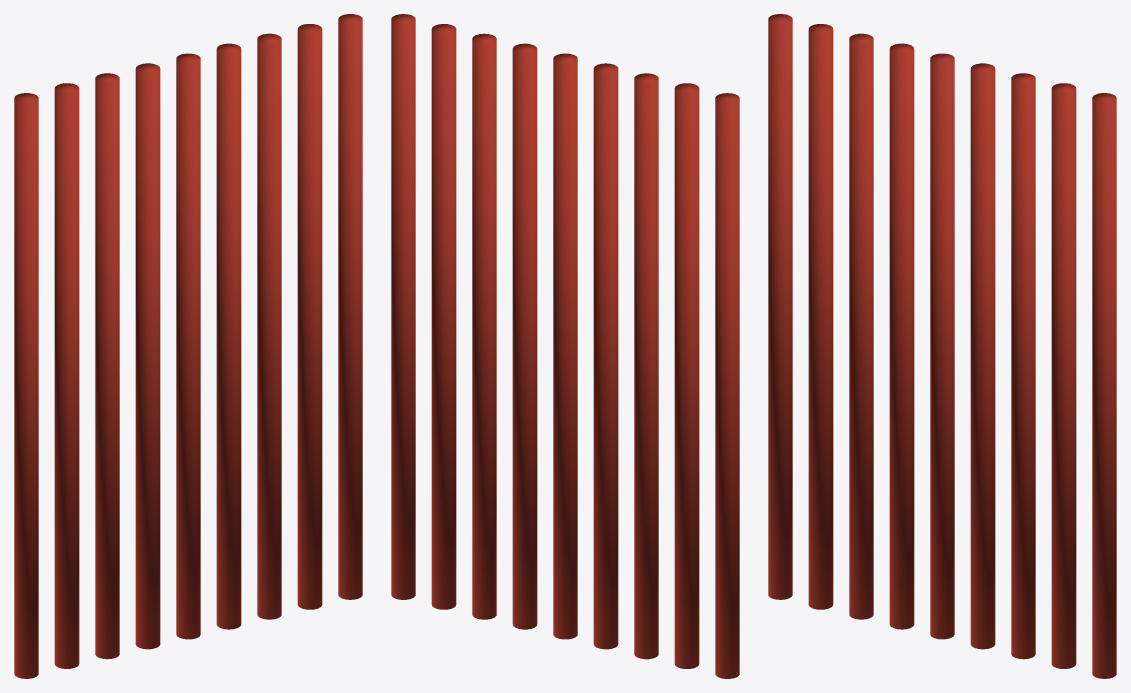
The model's file is gate_baracade.fbx.
3 renders of one model, left to right at view 1: azimuth 30°, elevation 25°; view 2: azimuth 150°, elevation 25°; view 3: azimuth 330°, elevation 25°, orthographic.
Visible parts, largest first — view 1: Cylinder.006; view 2: Cylinder.006; view 3: Cylinder.006.
Part boxes in pixels (x1,y1,x2,y2): Cylinder.006: (14, 14, 362, 678); Cylinder.006: (391, 14, 739, 678); Cylinder.006: (768, 14, 1116, 678).
Size of the model in its own units: 4.02 by 6.4 by 0.247.
